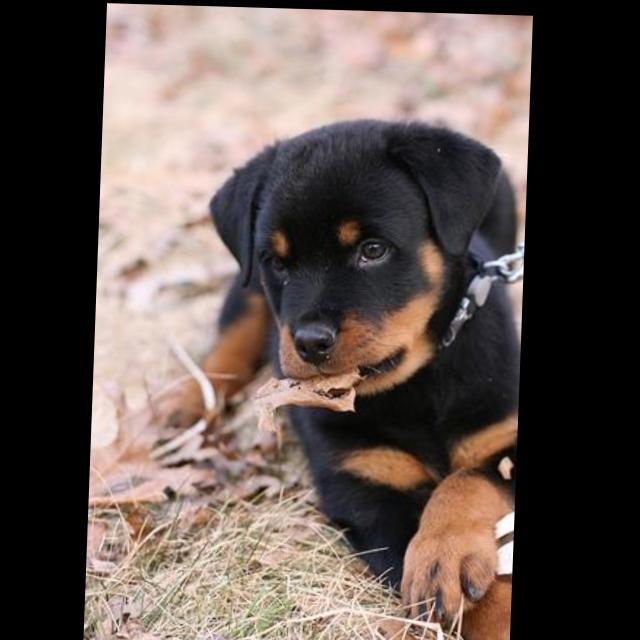rottweiler: (161, 109, 531, 640)
